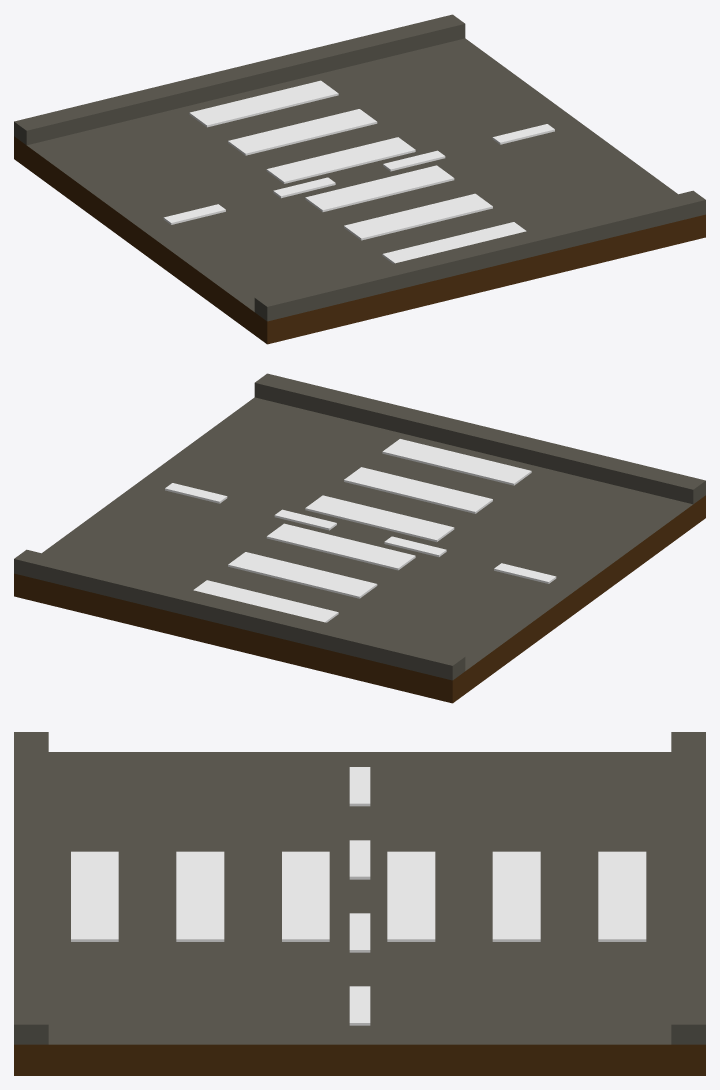
Rendered from CityRoadStraight_01.fbx.
The picture shows the model from 3 angles, top to bottom: view 1: azimuth 30°, elevation 25°; view 2: azimuth 150°, elevation 25°; view 3: azimuth 270°, elevation 25°; orthographic projection. The views are drawn at different scales.
Parts seen in each view (by area): view 1: CityRoadStraight_01; view 2: CityRoadStraight_01; view 3: CityRoadStraight_01.
Boxes of the visible parts, x1=… form: CityRoadStraight_01: x1=14, y1=14, x2=705, y2=344; CityRoadStraight_01: x1=14, y1=373, x2=705, y2=703; CityRoadStraight_01: x1=14, y1=732, x2=705, y2=1075.
Bounding box in the file's own units: 1 × 0.0818 × 1.
